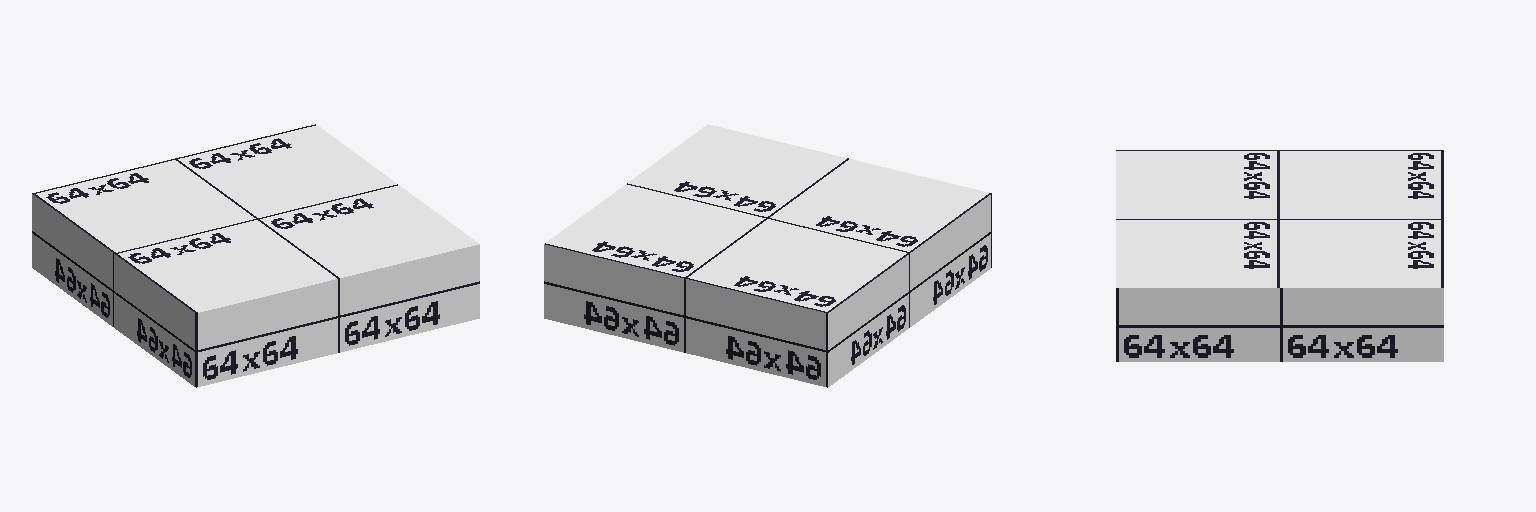
3 views of the same model, side by side, from view 1: azimuth 30°, elevation 25°; view 2: azimuth 150°, elevation 25°; view 3: azimuth 270°, elevation 25° (orthographic).
Parts seen in each view (by area): view 1: entity0_brush0; view 2: entity0_brush0; view 3: entity0_brush0.
Part boxes in pixels (bbox=[...]): entity0_brush0: bbox=[32, 124, 479, 387]; entity0_brush0: bbox=[544, 124, 991, 387]; entity0_brush0: bbox=[1116, 150, 1443, 361].
Bounding box in the file's own units: 128 × 32 × 128.
1 materials, 1 textured.